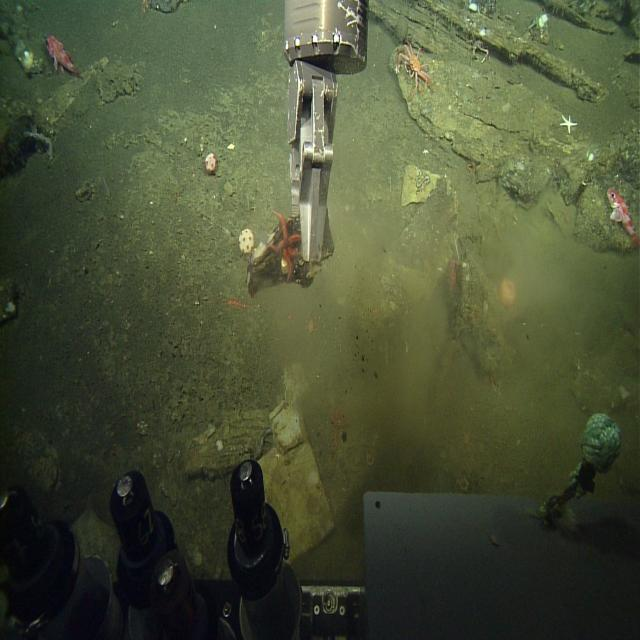Brittle Star: (264, 204, 302, 281)
Not Brittle Star: (394, 36, 436, 101), (604, 183, 640, 252), (42, 30, 86, 84), (233, 218, 258, 261), (466, 32, 492, 64), (201, 147, 220, 181), (558, 111, 580, 136)
